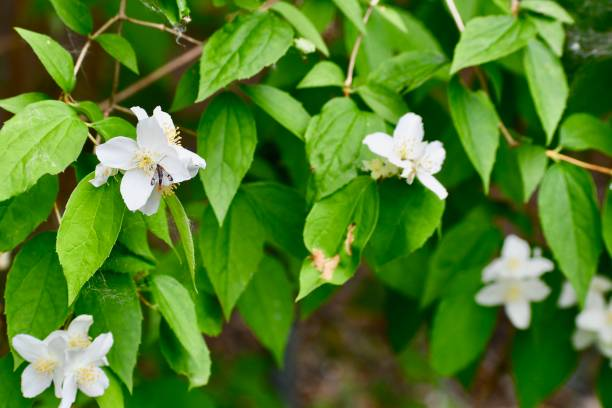flower: (86, 114, 212, 217), (6, 323, 76, 395), (467, 278, 552, 333), (62, 332, 120, 408), (361, 109, 427, 175), (485, 239, 554, 288), (409, 142, 457, 205)
